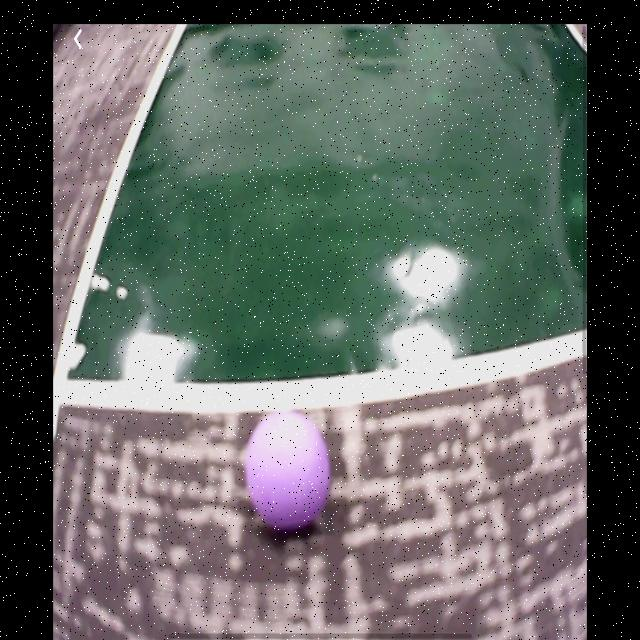ball: (247, 413, 329, 533)
